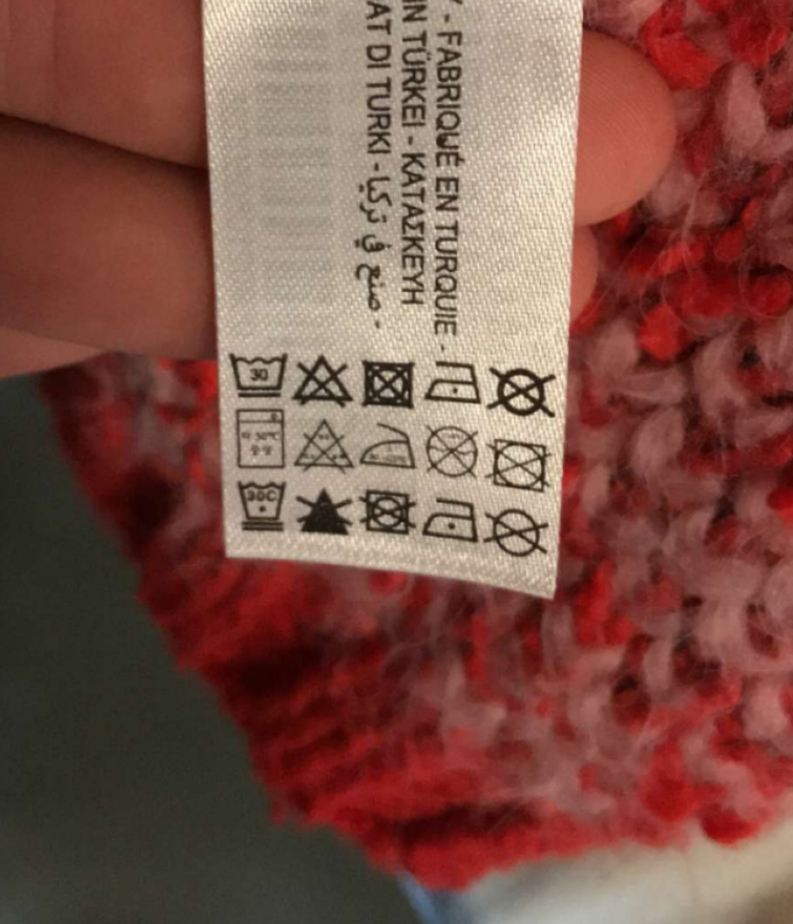do not bleach: (292, 347, 360, 416)
do not dry clean: (489, 352, 562, 434)
do not tumble dry: (354, 349, 419, 416)
iron low temp: (419, 351, 489, 411)
wash at or below 30: (226, 347, 294, 407)
